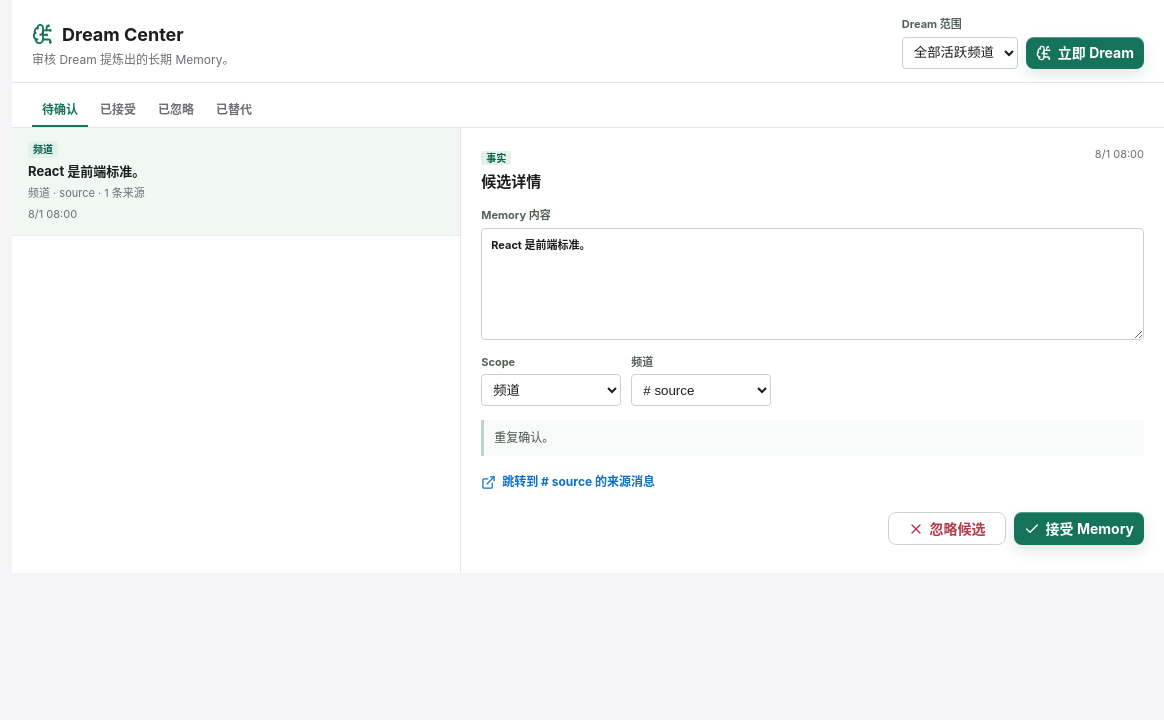
Test: DreamCenter › clears the running notice after a Dream start error
Click the button "立即 Dream". click: (1085, 52)
box: [1026,36,1144,68]
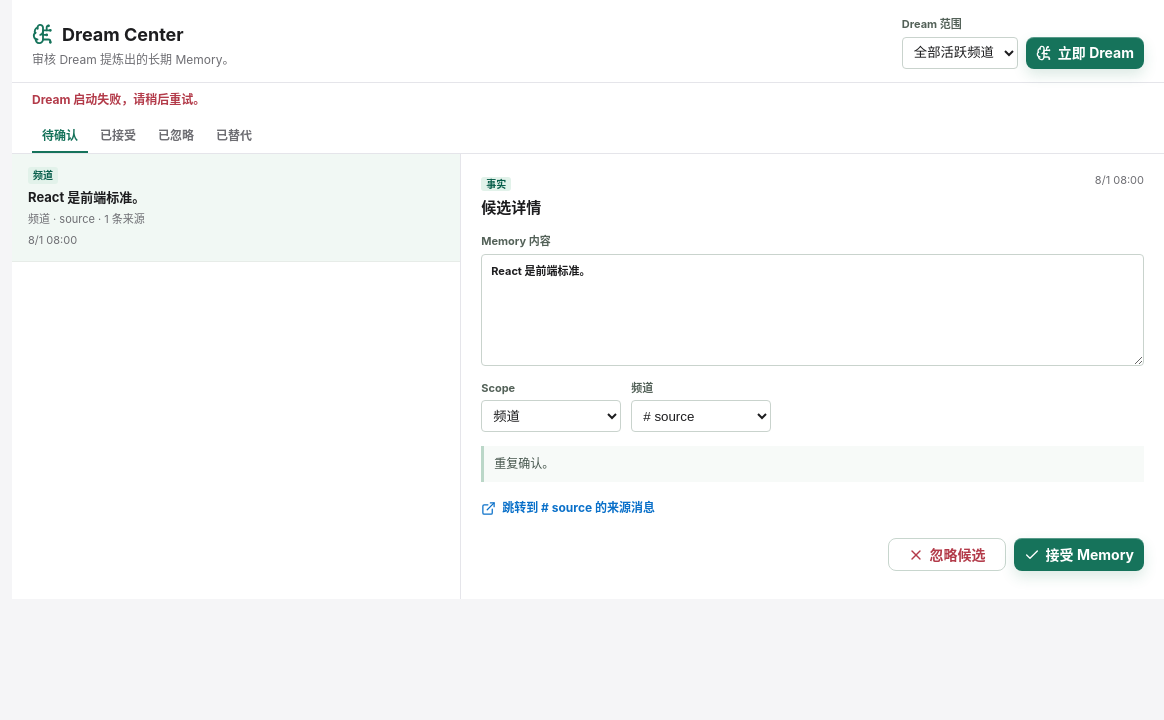
Check: the dropdown labelled "Dream 范围" is enabled, box [902,36,1018,68]
Check: the message reads "Dream 启动失败，请稍后重试。", box [32,92,205,106]
Check: the number of messages is 1, box [32,92,205,106]
